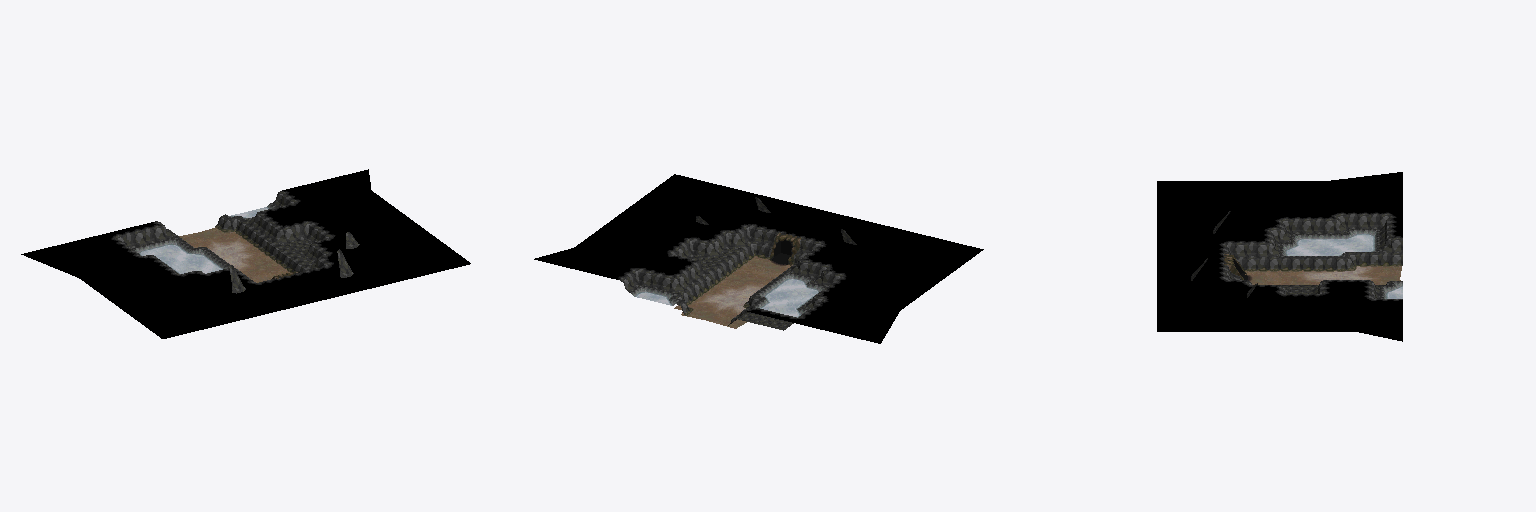
3 views of the same model, side by side, from view 1: azimuth 30°, elevation 25°; view 2: azimuth 150°, elevation 25°; view 3: azimuth 270°, elevation 25° (orthographic).
Visible parts, largest first — view 1: polygon12, polygon4, polygon3, polygon10, polygon11, polygon5, polygon7, polygon0; view 2: polygon12, polygon4, polygon10, polygon3, polygon7, polygon11, polygon5, polygon0, polygon9, polygon6; view 3: polygon12, polygon4, polygon7, polygon3, polygon11, polygon10, polygon6, polygon9, polygon0.
Boxes of the visible parts, x1,y1,x2,y2 form: polygon12: [21, 169, 470, 338]; polygon4: [119, 193, 327, 269]; polygon3: [114, 191, 332, 283]; polygon10: [179, 228, 289, 282]; polygon11: [141, 207, 267, 273]; polygon5: [169, 218, 359, 293]; polygon7: [215, 217, 305, 272]; polygon0: [191, 237, 259, 272]; polygon12: [534, 174, 983, 343]; polygon4: [623, 228, 838, 318]; polygon10: [674, 256, 790, 328]; polygon3: [620, 225, 844, 318]; polygon7: [680, 245, 802, 325]; polygon11: [637, 280, 816, 316]; polygon5: [672, 197, 856, 330]; polygon0: [696, 281, 766, 316]; polygon9: [632, 273, 824, 314]; polygon6: [630, 272, 825, 310]; polygon12: [1157, 172, 1402, 341]; polygon4: [1228, 217, 1402, 298]; polygon7: [1240, 256, 1402, 284]; polygon3: [1224, 214, 1402, 298]; polygon11: [1288, 235, 1402, 298]; polygon10: [1245, 266, 1401, 284]; polygon6: [1280, 229, 1402, 298]; polygon9: [1283, 230, 1402, 298]; polygon0: [1296, 266, 1381, 284].
Size of the model in its own units: 9 by 1.04 by 5.5.
14 materials, 14 textured.